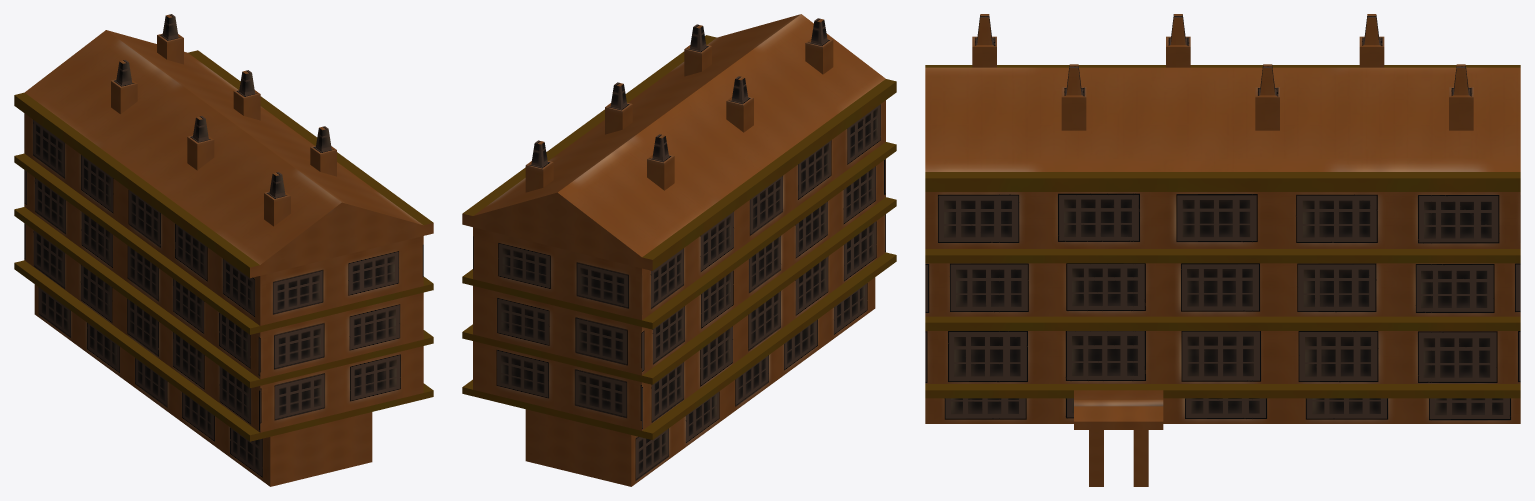
Rendered from steampunkgebouw1.fbx.
The picture shows the model from 3 angles, left to right: view 1: azimuth 30°, elevation 25°; view 2: azimuth 150°, elevation 25°; view 3: azimuth 270°, elevation 25°; orthographic projection. The views are drawn at different scales.
Visible parts, largest first — view 1: Appartment.001; view 2: Appartment.001; view 3: Appartment.001.
Boxes of the visible parts, box(x1,y1,x2,y2) form: Appartment.001: box(14, 14, 433, 486); Appartment.001: box(462, 14, 896, 486); Appartment.001: box(925, 14, 1520, 486).
Size of the model in its own units: 230 by 270 by 400.
